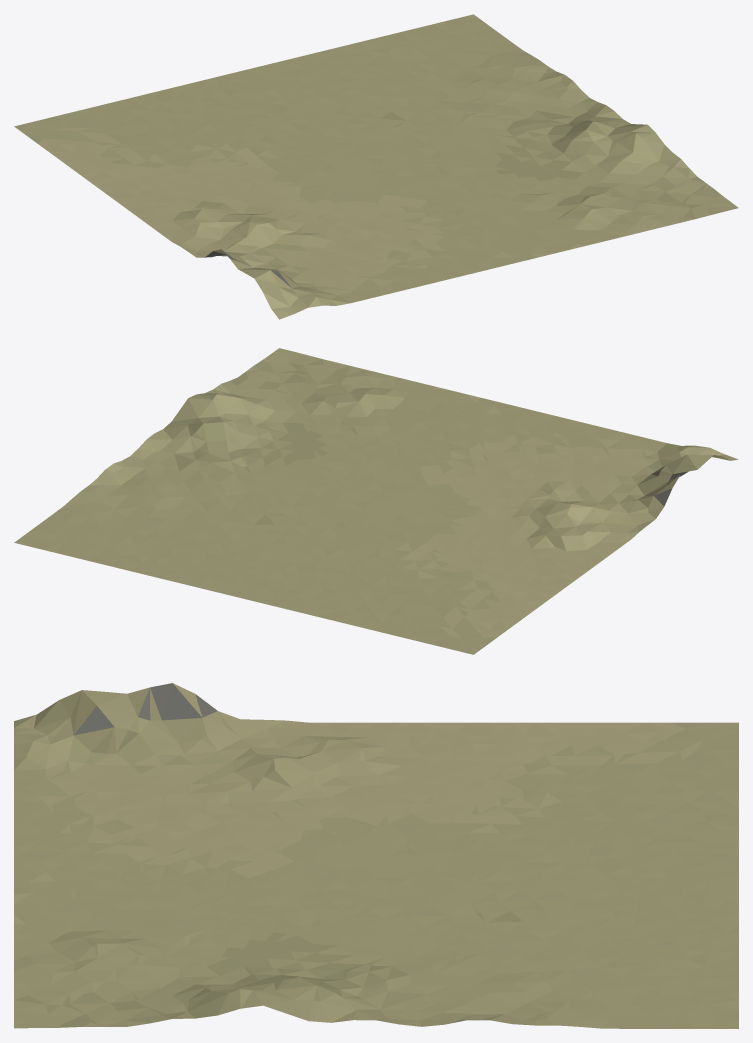
File: Ground_0_4.glb
3 views of the same model, one above another, from view 1: azimuth 30°, elevation 25°; view 2: azimuth 150°, elevation 25°; view 3: azimuth 270°, elevation 25° (orthographic). The views are drawn at different scales.
Visible parts, largest first — view 1: Ground_0_4; view 2: Ground_0_4; view 3: Ground_0_4.
Part boxes in pixels (bbox=[...]): Ground_0_4: bbox=[14, 14, 738, 319]; Ground_0_4: bbox=[14, 348, 738, 654]; Ground_0_4: bbox=[14, 683, 738, 1028].
Bounding box in the file's own units: 768 × 46.25 × 768.
